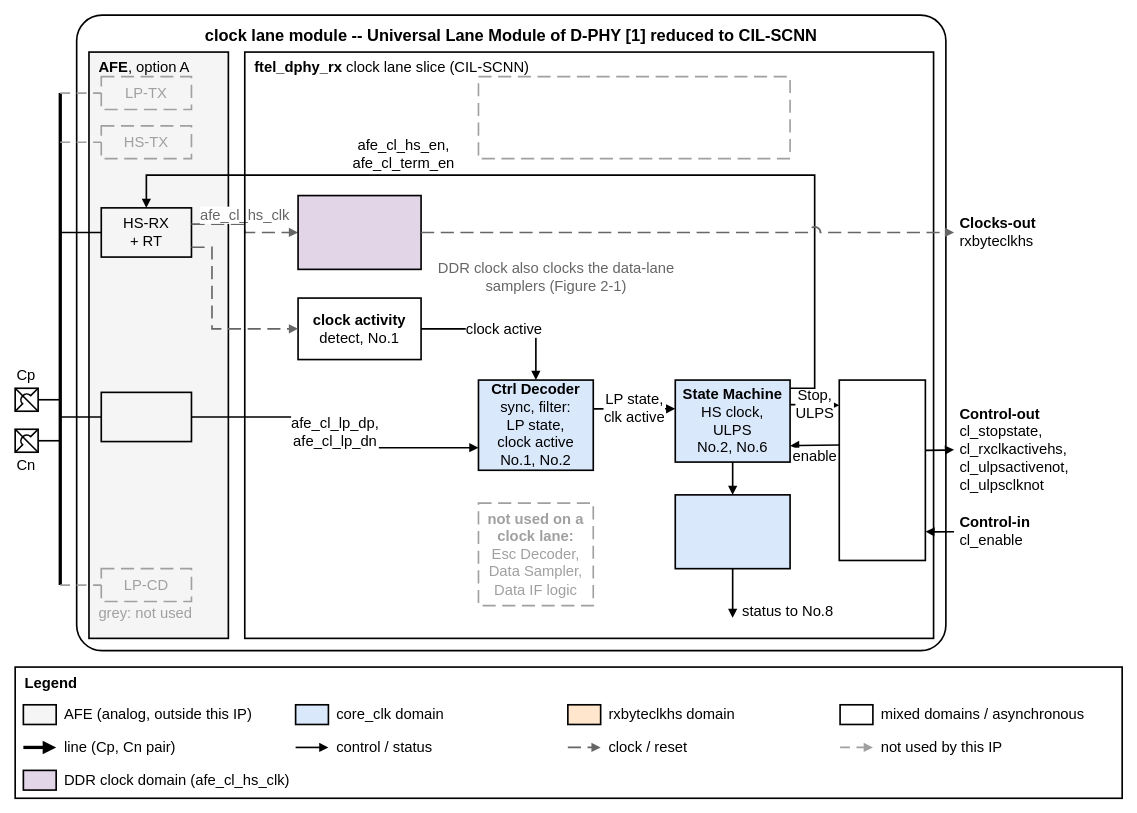
Some shapes in this 1137 by 813 pixel diagram are drawn without their labels. Each missing label, with the centre of its shape:
"byte clock DDR clock / 4, clock gate, No.1" belongs at pixel 359 232.
"Ctrl IF logic No.6, No.7" belongs at pixel 882 470.
"Error detect aborted HS request, No.2" belongs at pixel 732 531.
"LP-RX" belongs at pixel 146 416.
"Tx functions, not used: TX Ctrl Logic, Esc Encoder, HS-Serialize, Sequences" belongs at pixel 633 117.
